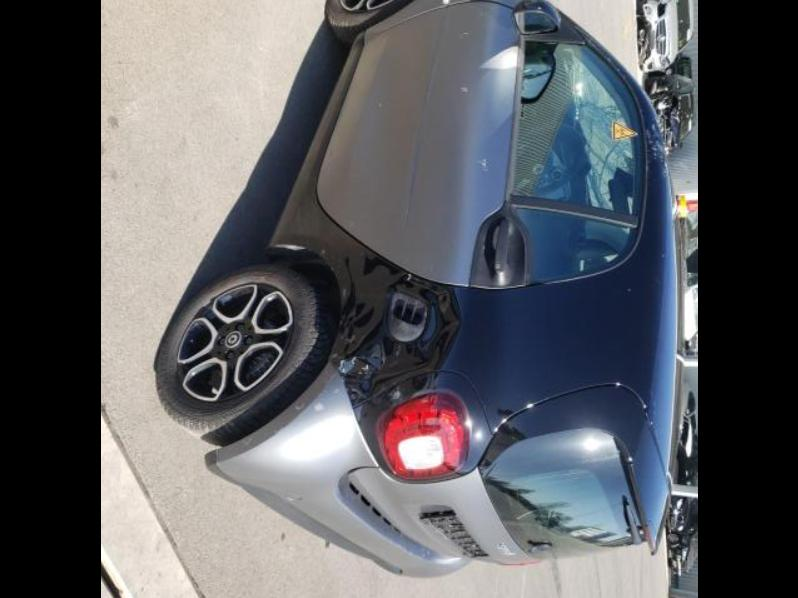Dent: (329, 246, 461, 406)
Paint chip: (341, 289, 345, 297), (321, 250, 324, 255)
Scratch: (476, 158, 487, 173), (338, 360, 345, 373), (391, 391, 400, 400), (360, 364, 368, 371), (459, 87, 467, 93), (350, 356, 355, 365), (406, 273, 411, 282), (376, 102, 381, 109), (461, 32, 468, 34)
